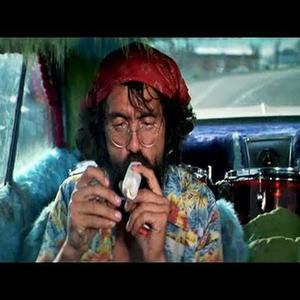cigarette: (121, 161, 141, 200)
